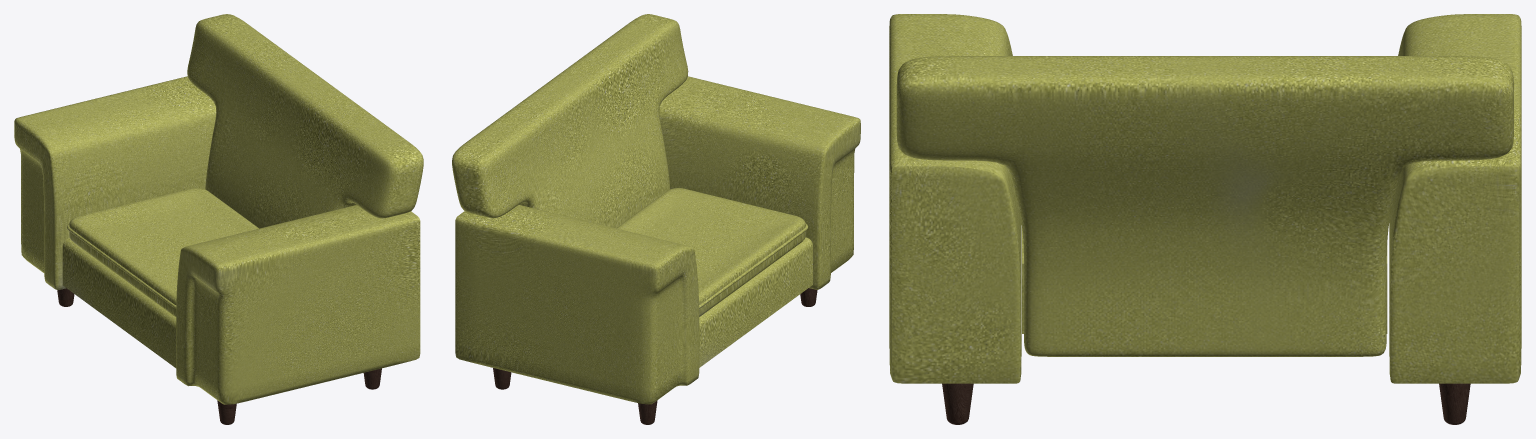
Rendered from LivingRoomArmchair.fbx.
3 views of the same model, side by side, from view 1: azimuth 30°, elevation 25°; view 2: azimuth 150°, elevation 25°; view 3: azimuth 270°, elevation 25° (orthographic). The views are drawn at different scales.
Visible parts, largest first — view 1: LivingRoomArmChair, LivingRoomArmChairLegs; view 2: LivingRoomArmChair, LivingRoomArmChairLegs; view 3: LivingRoomArmChair, LivingRoomArmChairLegs.
Part boxes in pixels (x1,y1,x2,y2): LivingRoomArmChair: [14, 14, 423, 404]; LivingRoomArmChairLegs: [57, 288, 381, 424]; LivingRoomArmChair: [452, 14, 860, 404]; LivingRoomArmChairLegs: [493, 288, 817, 424]; LivingRoomArmChair: [889, 14, 1521, 383]; LivingRoomArmChairLegs: [942, 383, 1470, 424].
Size of the model in its own units: 312 by 333 by 517.
Materials: 2 (2 with a texture image).
